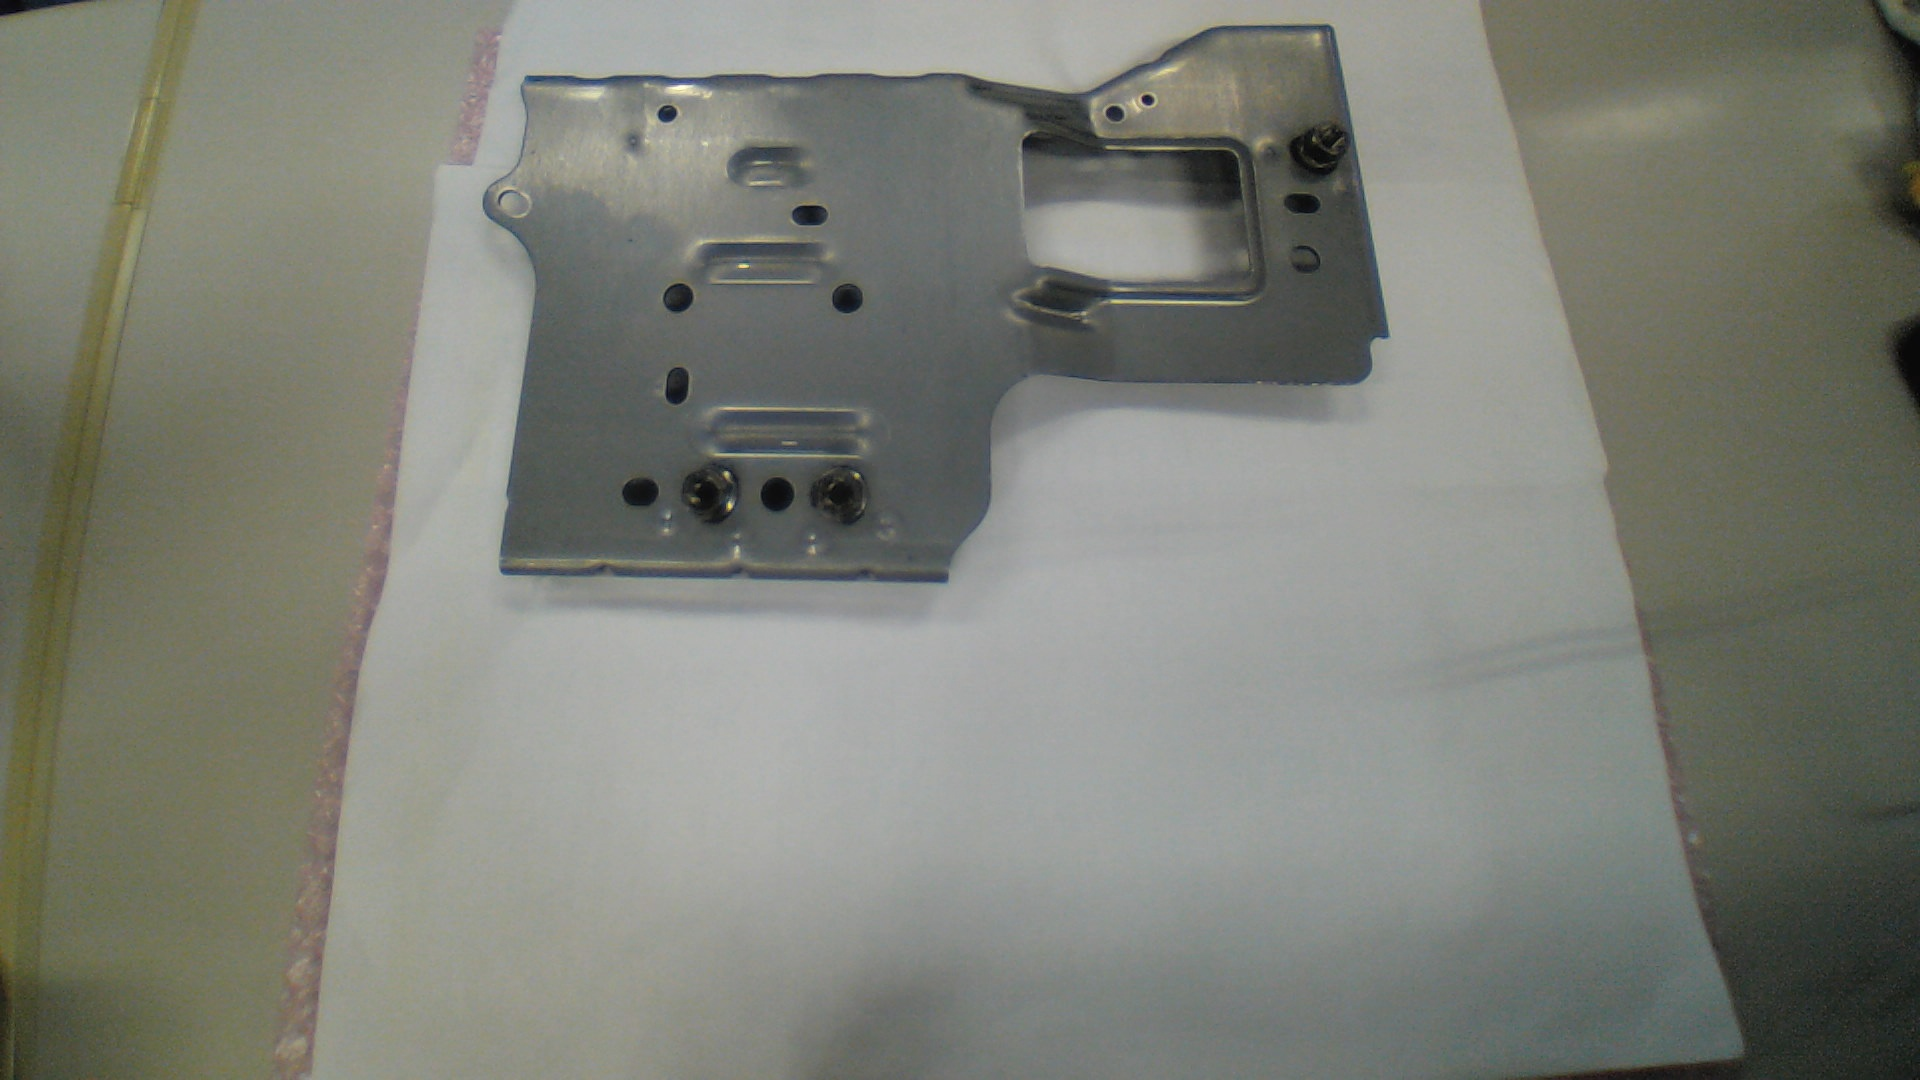dog: (680, 462, 741, 525), (808, 464, 866, 525), (1291, 121, 1352, 177)
